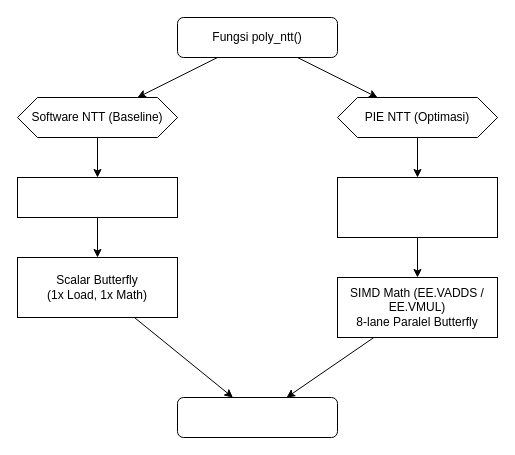
This 515x455 diagram has some shape labels left out. The box of each missing label's shape, as (x1, y1, x2, y2) in pixels:
Load 8 elemen koefisien ke Vektor 128-bit (q0-q7): (336, 176, 498, 238)
Loop Linear per elemen: (16, 176, 178, 218)
Polinomial Domain NTT: (176, 396, 338, 438)
